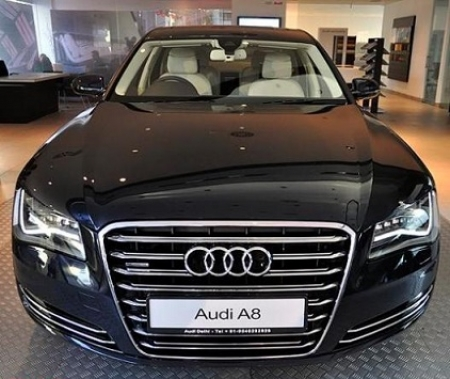audi: (182, 240, 276, 283)
